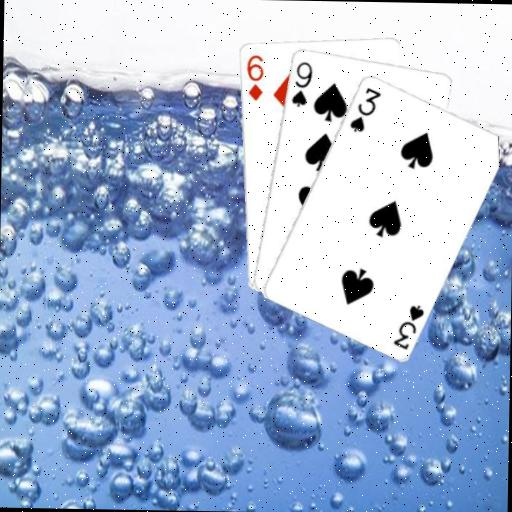3S: (347, 83, 383, 134), (390, 300, 426, 351)
6D: (243, 51, 265, 102)
9S: (288, 58, 314, 109)
